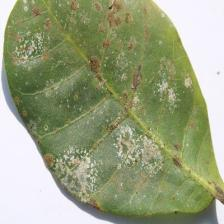red rust: (2, 0, 224, 218)
